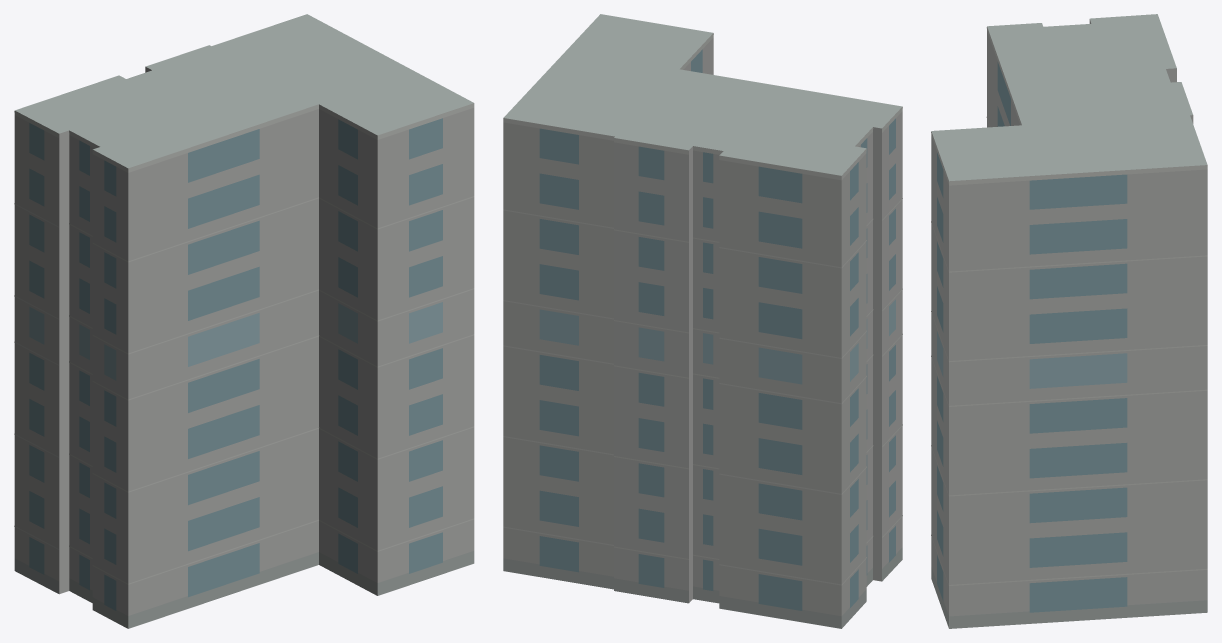
File: survey-upis-33008387.glb
3 renders of one model, left to right at view 1: azimuth 30°, elevation 25°; view 2: azimuth 150°, elevation 25°; view 3: azimuth 270°, elevation 25°, orthographic. The views are drawn at different scales.
Visible parts, largest first — view 1: survey-upis-33008387.tmp; view 2: survey-upis-33008387.tmp; view 3: survey-upis-33008387.tmp.
Boxes of the visible parts, left/top/right/bottom form: survey-upis-33008387.tmp: left=14, top=14, right=474, bottom=628; survey-upis-33008387.tmp: left=503, top=14, right=902, bottom=628; survey-upis-33008387.tmp: left=931, top=14, right=1207, bottom=628.
Bounding box in the file's own units: 19.64 × 24.5 × 13.73.
